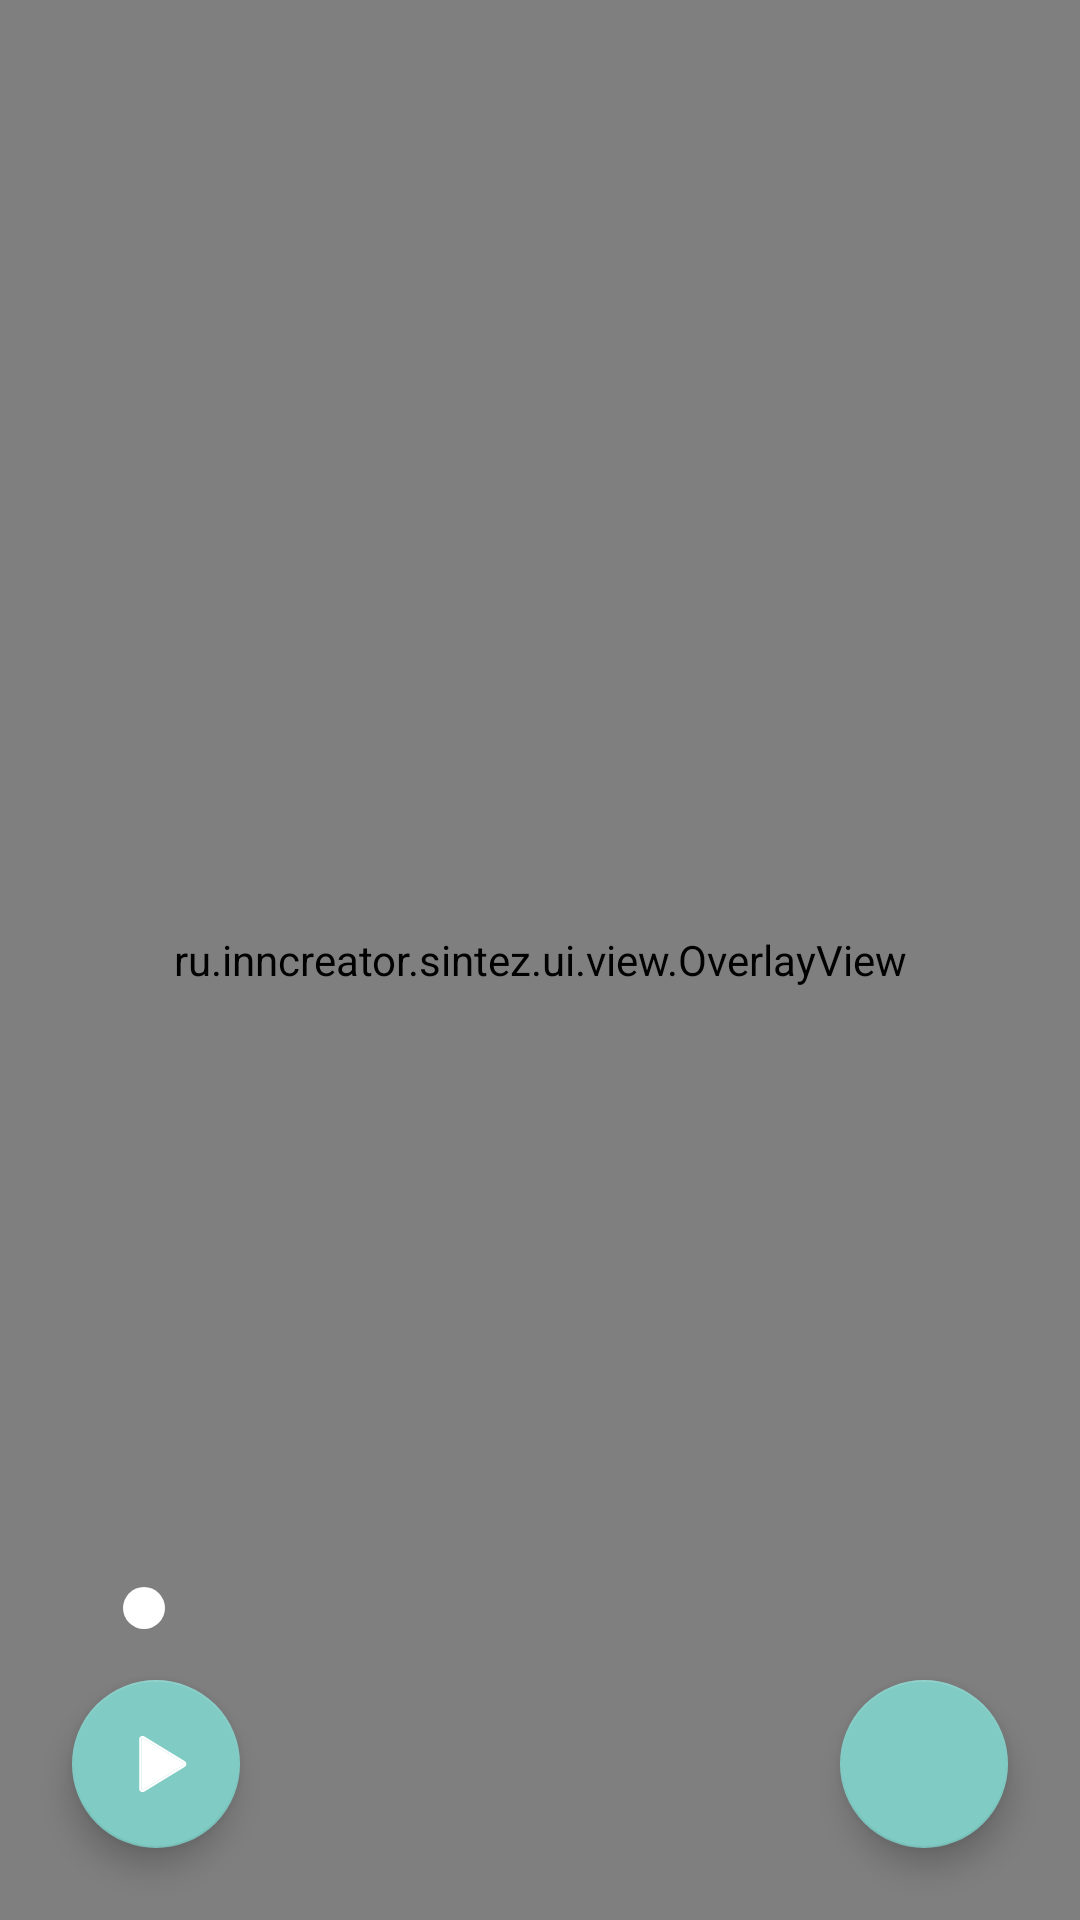

Icon bounding boxes for this 1080*1920 phone screenshot, format (x1, y1, x2, y2):
play: (72, 1680, 240, 1848)
